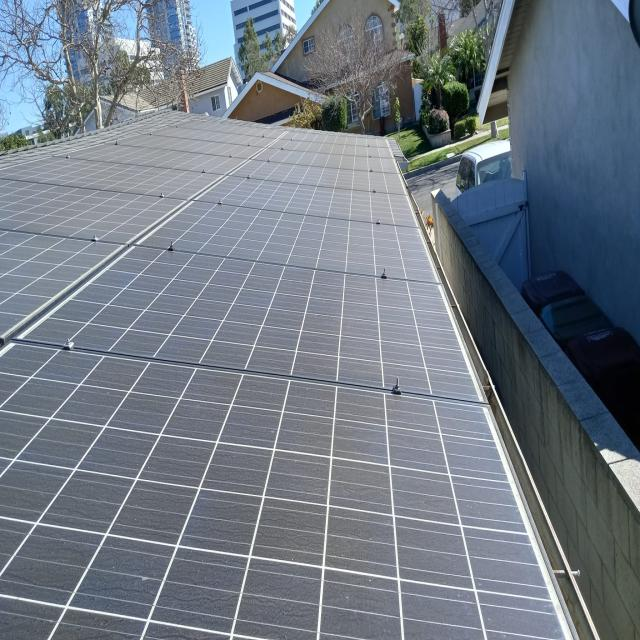dust-solar-panel: (0, 107, 579, 640)
